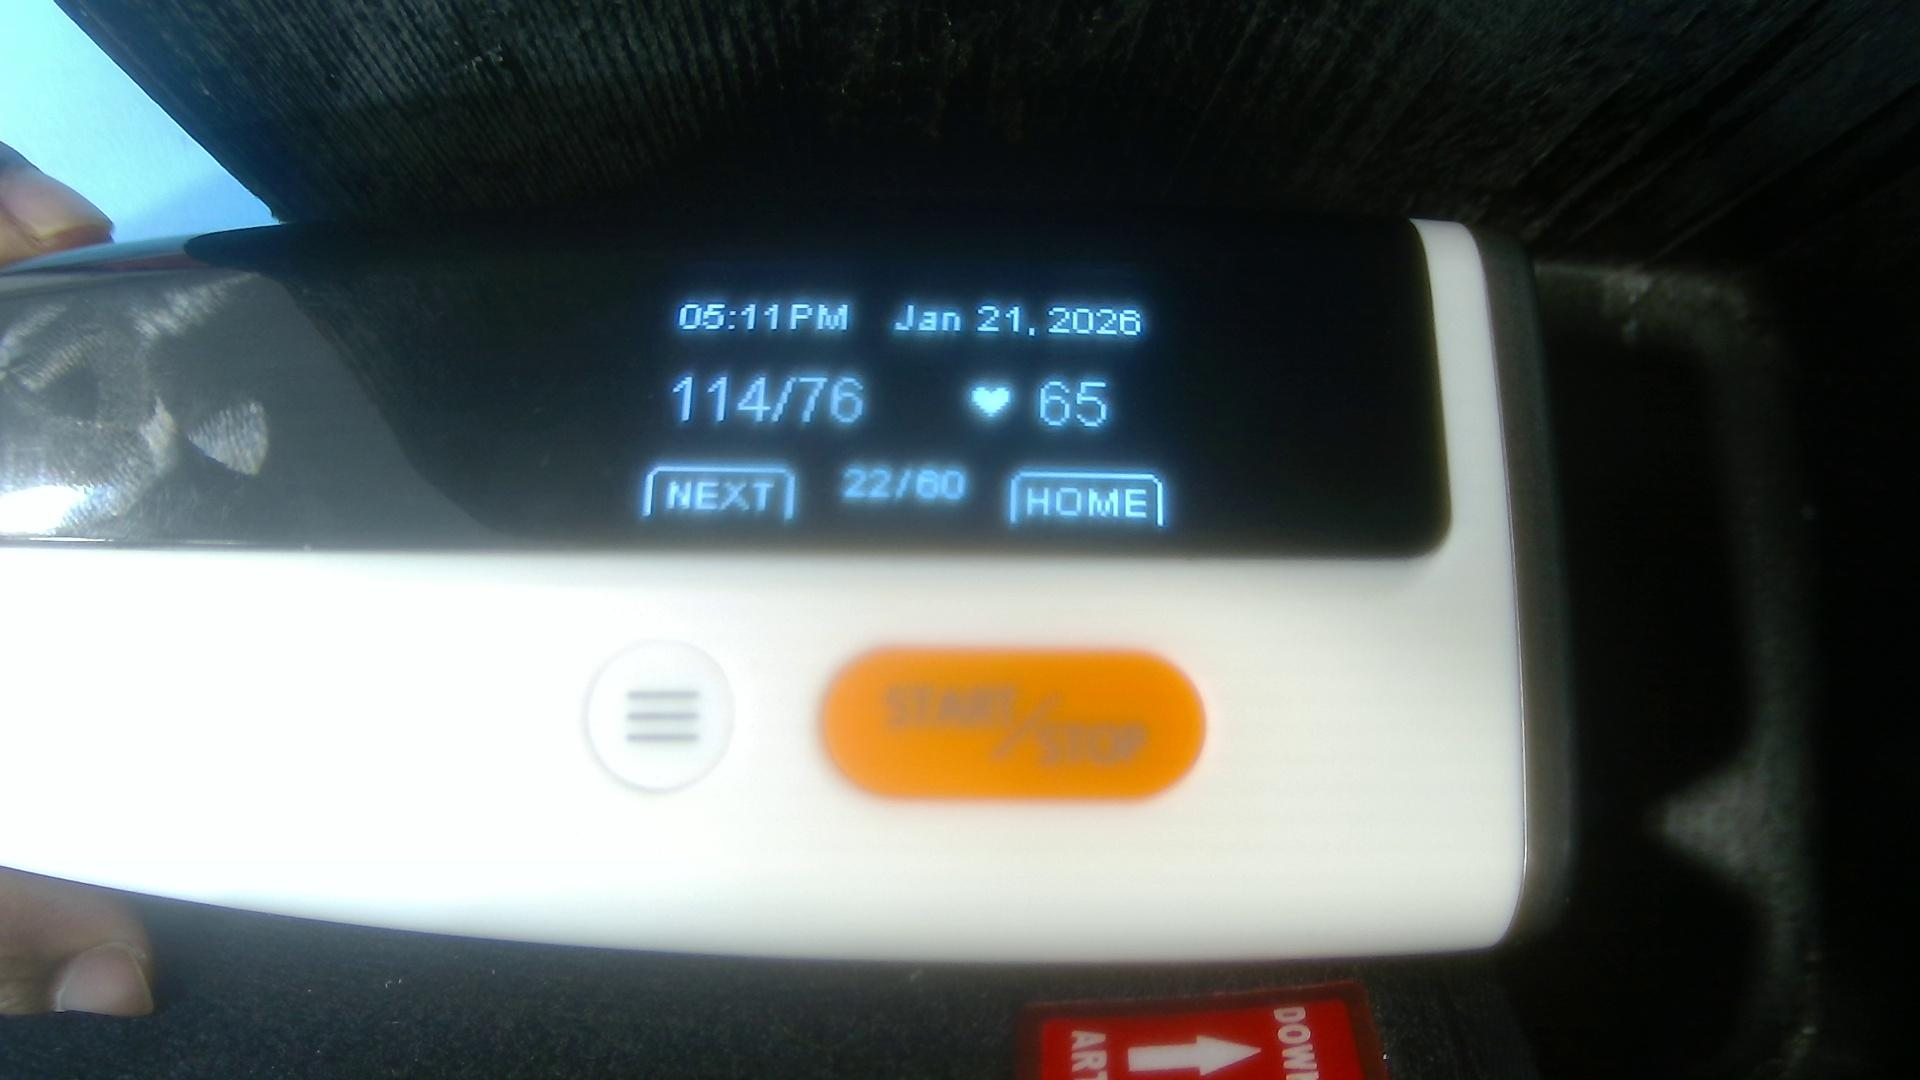DISPLAY: (24, 226, 1434, 551)
